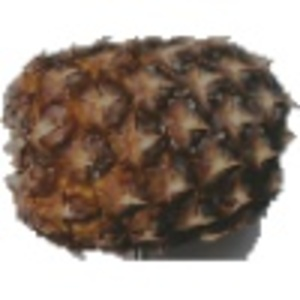abacaxi: (3, 28, 294, 252)
